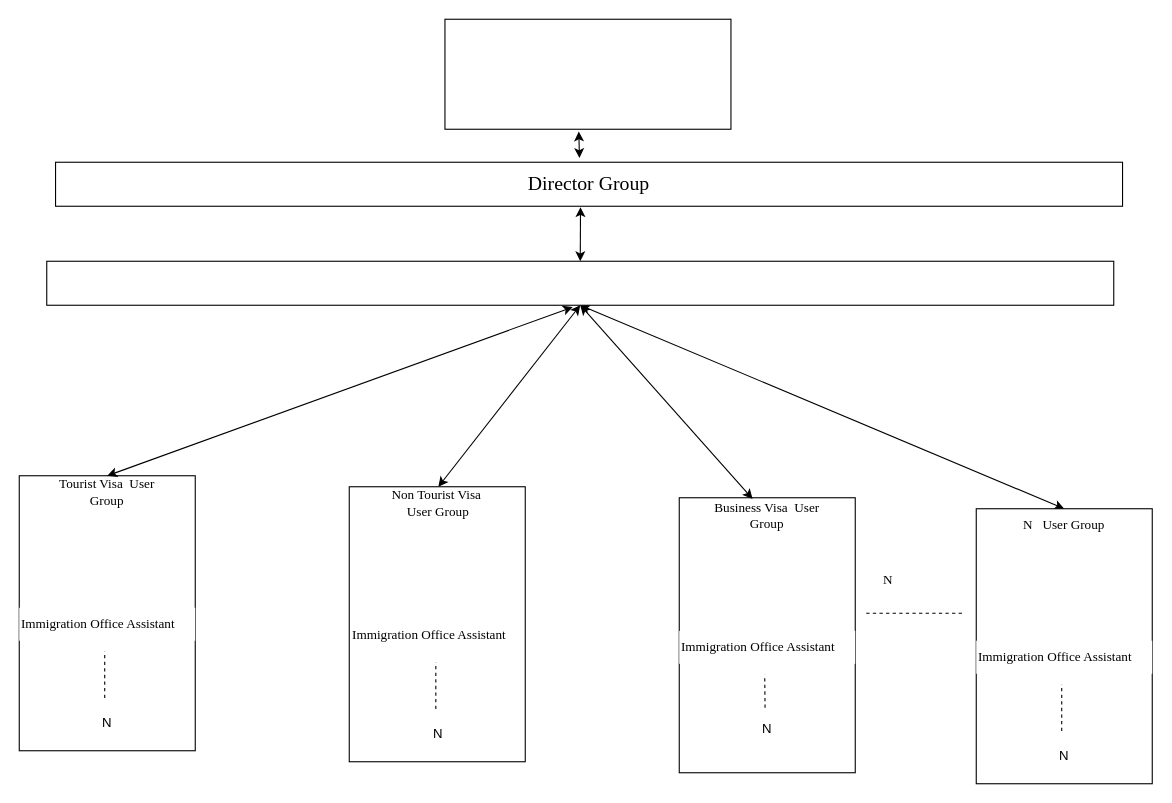
Some shapes in this 1172 by 803 pixel diagram are drawn without their labels. Each missing label, with the centre of its shape:
"Director General" goes at point (587, 73).
"Officers Group" goes at point (580, 282).
